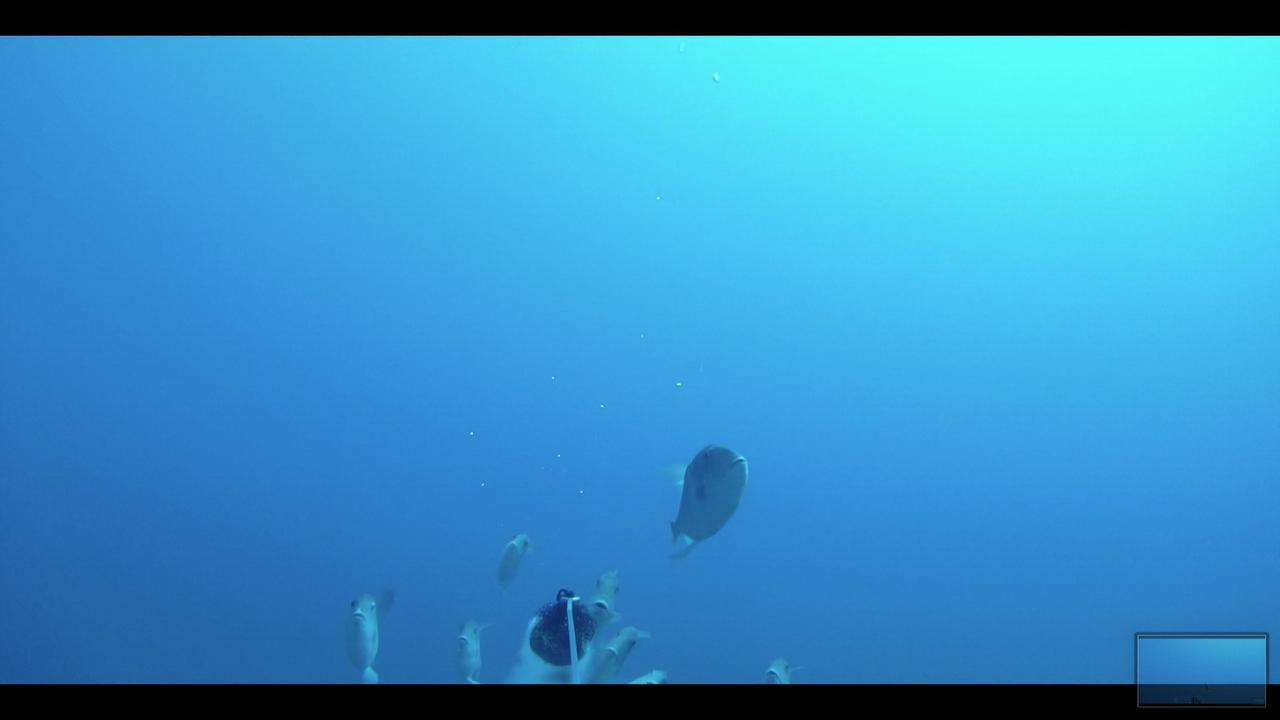balistes: (659, 434, 751, 563), (335, 571, 395, 681), (451, 605, 492, 681), (585, 560, 622, 642), (595, 620, 646, 679), (492, 524, 535, 588)
